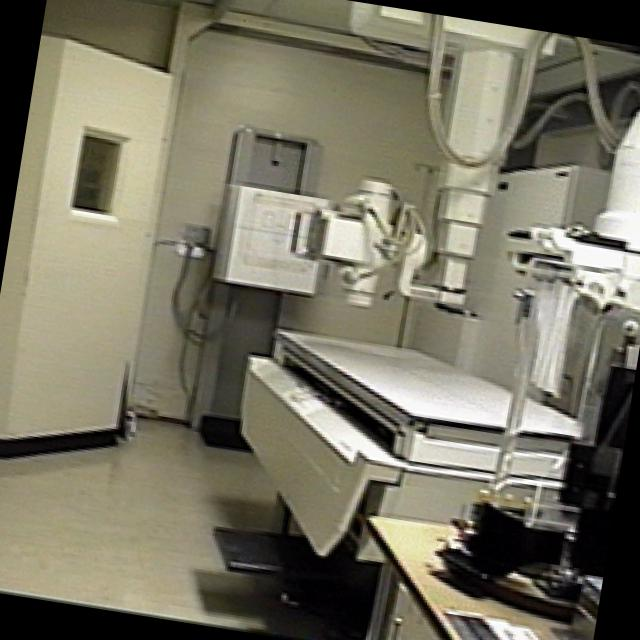2001: (70, 130, 118, 211)
X-rays: (309, 1, 555, 315)
ceiling beam: (152, 0, 640, 68)
floor -X: (0, 413, 562, 640)
set of instruments toys: (343, 105, 640, 640)
stretcher occluded: (209, 325, 578, 632)
wall clock: (42, 0, 455, 436), (383, 53, 640, 640), (0, 30, 172, 455)
